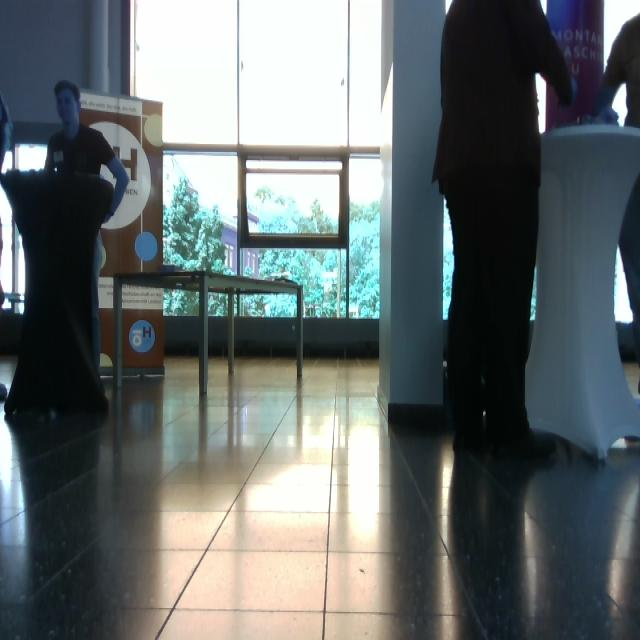light bulb: (14, 142, 49, 173)
person: (432, 1, 574, 460), (592, 13, 640, 394)
pillar: (525, 124, 640, 461), (378, 1, 447, 421)
tiled floor: (2, 353, 639, 638)
window: (128, 1, 386, 324)
